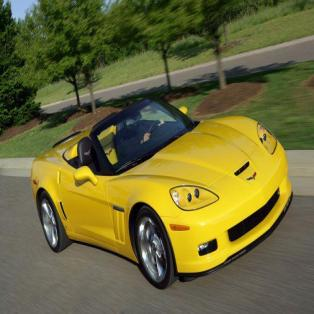Auto: (30, 94, 294, 290)
